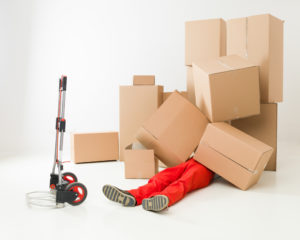fall: (96, 122, 277, 222)
